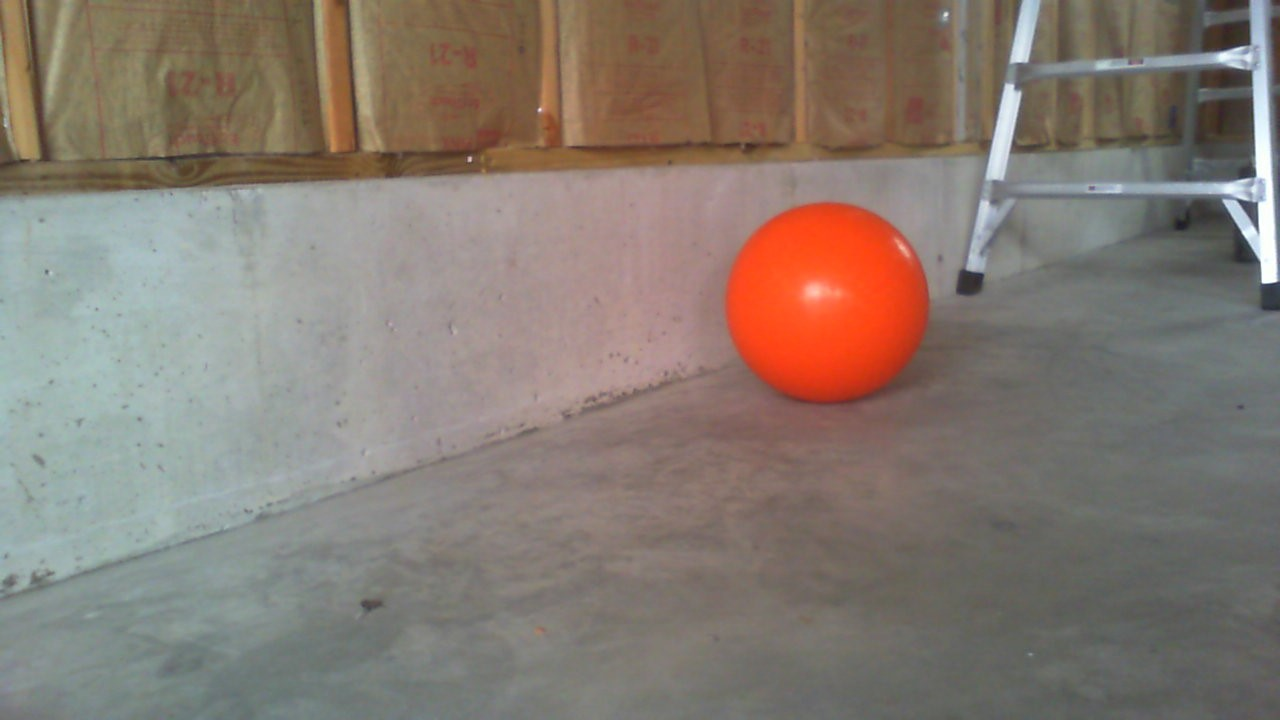Ball: (725, 202, 928, 404)
